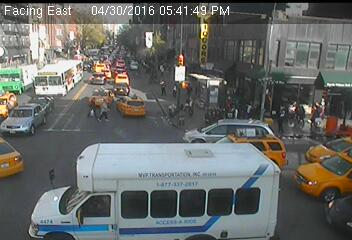neg: (103, 51, 123, 77), (128, 133, 146, 157), (225, 36, 243, 60), (4, 19, 22, 43), (232, 190, 248, 212), (41, 39, 57, 61), (239, 118, 255, 139), (65, 28, 80, 47), (126, 92, 140, 110), (189, 195, 202, 213), (137, 17, 150, 35), (165, 21, 178, 38), (13, 73, 26, 90), (218, 129, 231, 146), (260, 39, 272, 55), (68, 144, 80, 159), (92, 158, 104, 173), (91, 203, 103, 218), (96, 12, 108, 27), (306, 171, 316, 185), (306, 36, 316, 50), (23, 154, 33, 168), (37, 115, 47, 128), (56, 66, 65, 78), (64, 197, 73, 209), (21, 110, 29, 120)
pos: (270, 110, 296, 144), (81, 94, 104, 125), (152, 79, 172, 105), (308, 95, 327, 122), (96, 98, 112, 119), (174, 105, 190, 126), (183, 82, 195, 99), (168, 83, 179, 98)
